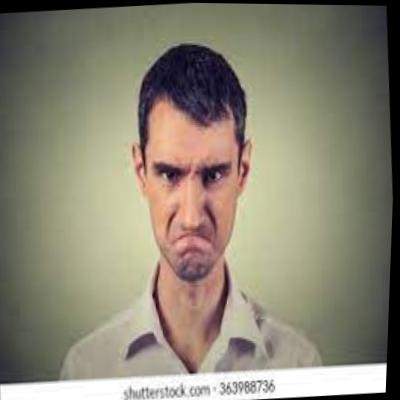angry: (126, 40, 257, 274)
